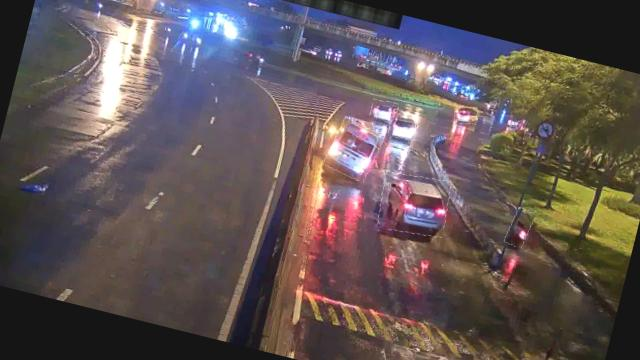Bike: (504, 206, 534, 248)
Bus: (324, 118, 384, 183)
Car: (375, 168, 455, 241), (386, 111, 418, 142), (370, 99, 400, 124), (452, 104, 480, 127)
